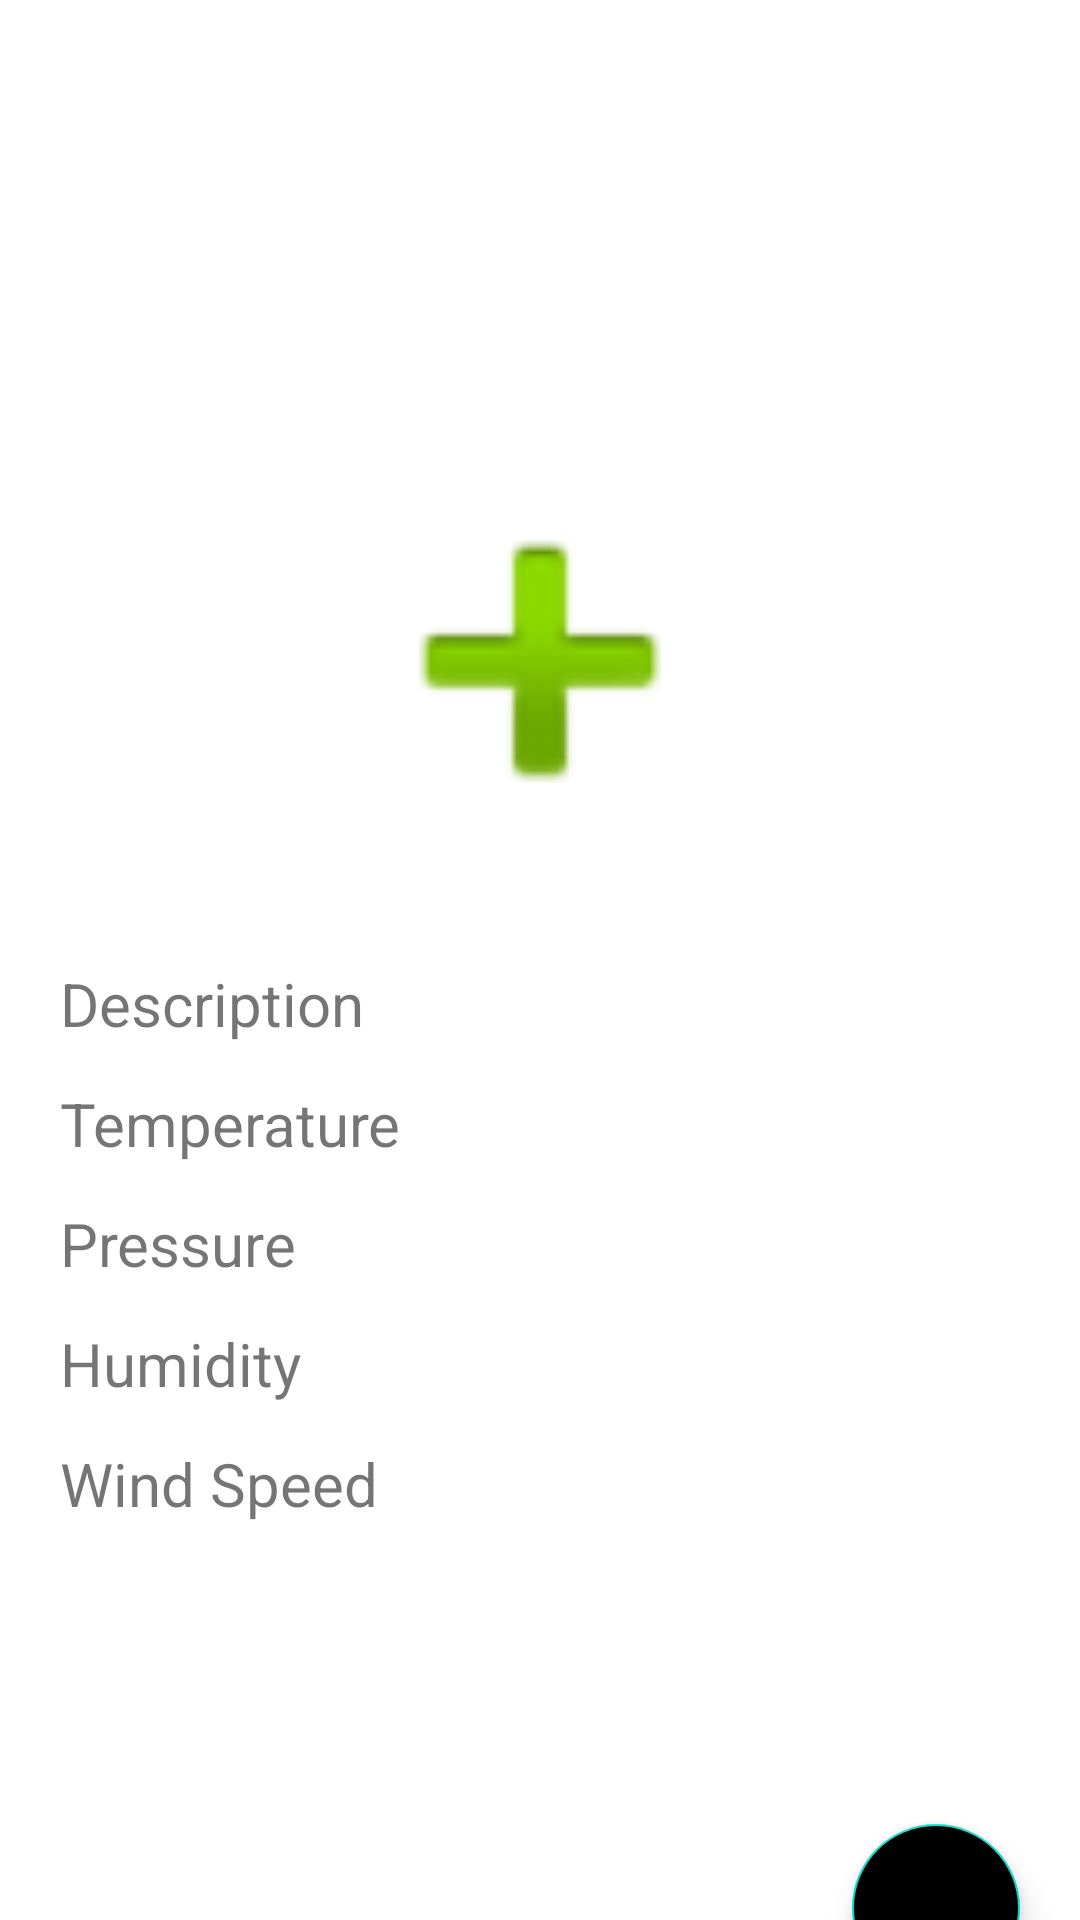

Named icons in this screenshot (1080 x 1920) and their centers, (x,y):
add: (540,661)
